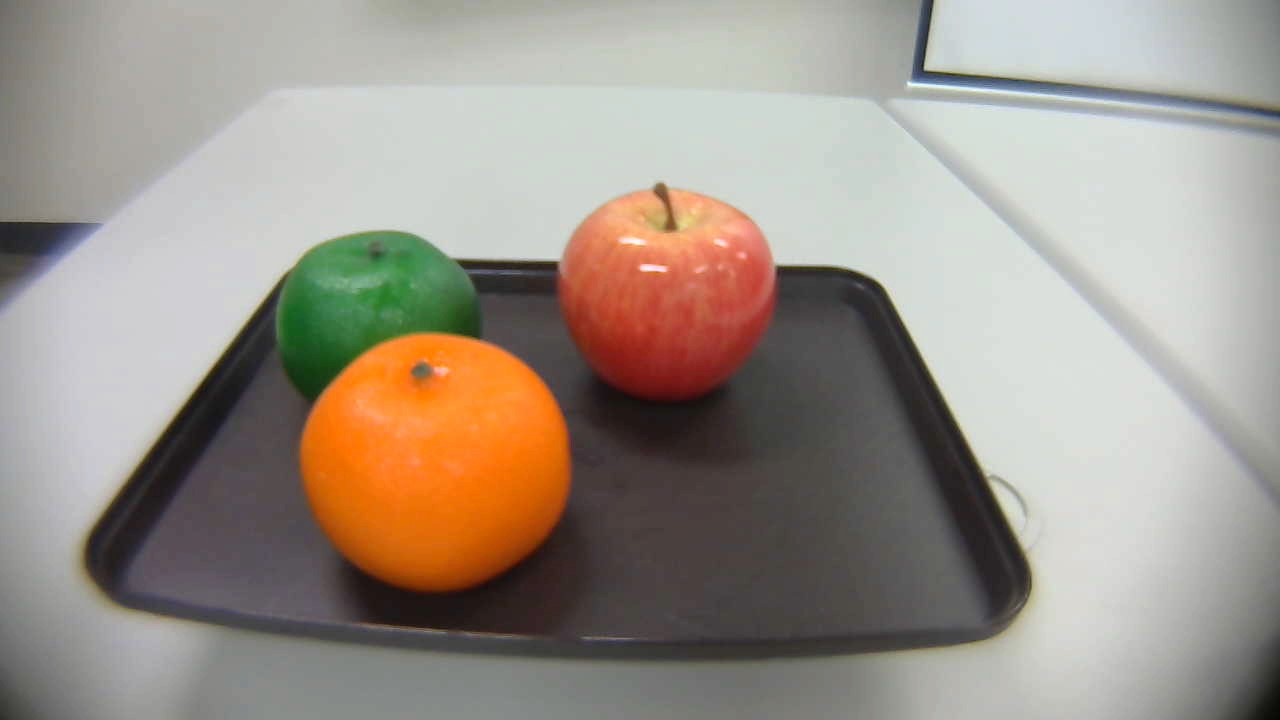green orange: (262, 222, 505, 414)
orange: (291, 329, 573, 588)
red apple: (554, 182, 791, 419)
